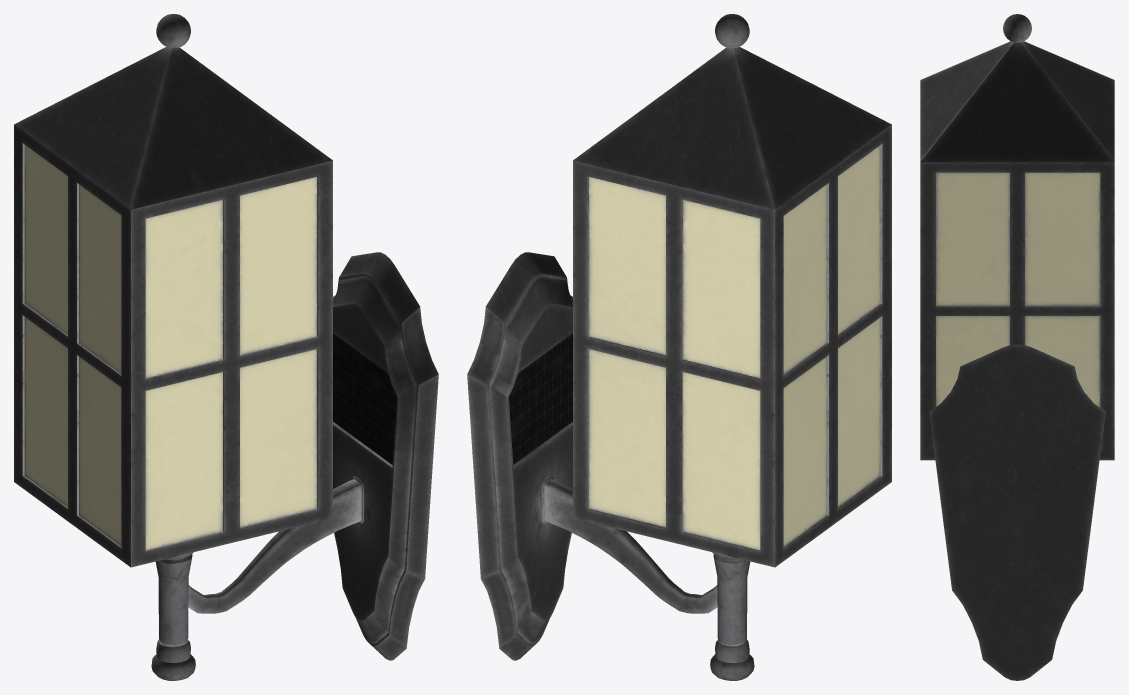
Rendered from outdoor_wall_lamp_free.obj.
3 views of the same model, side by side, from view 1: azimuth 30°, elevation 25°; view 2: azimuth 150°, elevation 25°; view 3: azimuth 270°, elevation 25° (orthographic). The views are drawn at different scales.
Parts seen in each view (by area): view 1: obj1; view 2: obj1; view 3: obj1.
Part boxes in pixels (box(x1,y1,x2,y2)): obj1: box(14, 14, 438, 680); obj1: box(467, 14, 891, 680); obj1: box(920, 14, 1114, 680).
Size of the model in its own units: 13.93 by 29.54 by 8.99.
1 material, 1 textured.
